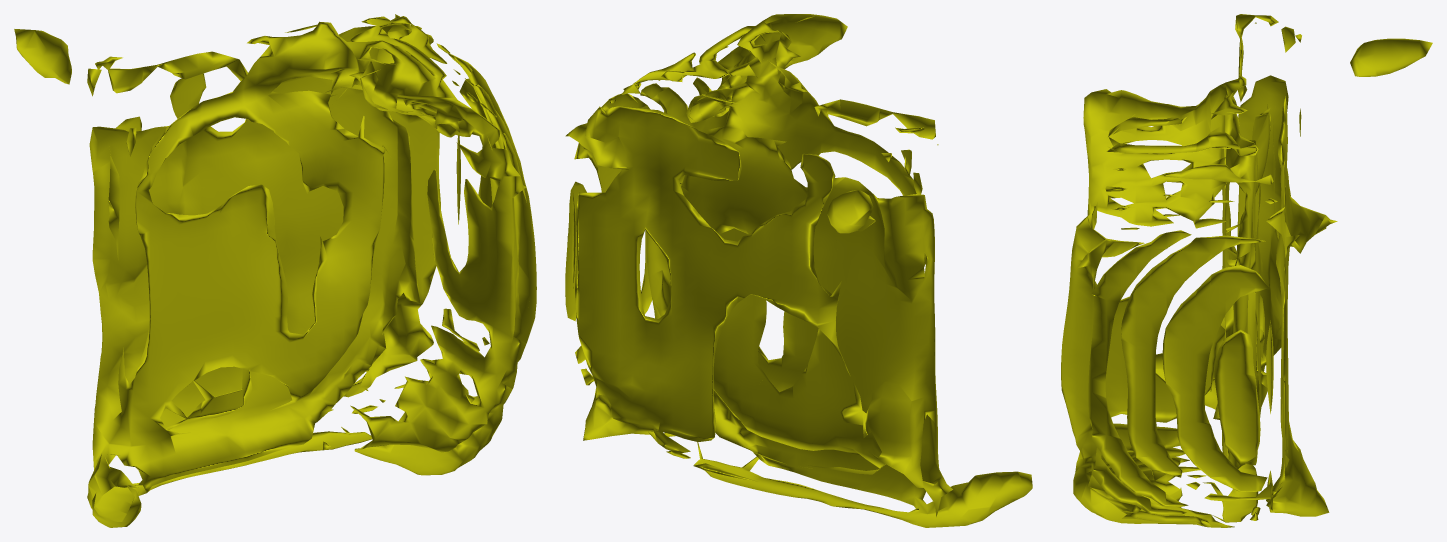
3 renders of one model, left to right at view 1: azimuth 30°, elevation 25°; view 2: azimuth 150°, elevation 25°; view 3: azimuth 270°, elevation 25°, orthographic. The views are drawn at different scales.
Parts seen in each view (by area): view 1: world; view 2: world; view 3: world.
Boxes of the visible parts, box(x1,y1,x2,y2) form: world: box(14, 14, 536, 527); world: box(565, 14, 1032, 527); world: box(1061, 14, 1432, 527).
Size of the model in its own units: 31.6 by 30.3 by 24.92.
